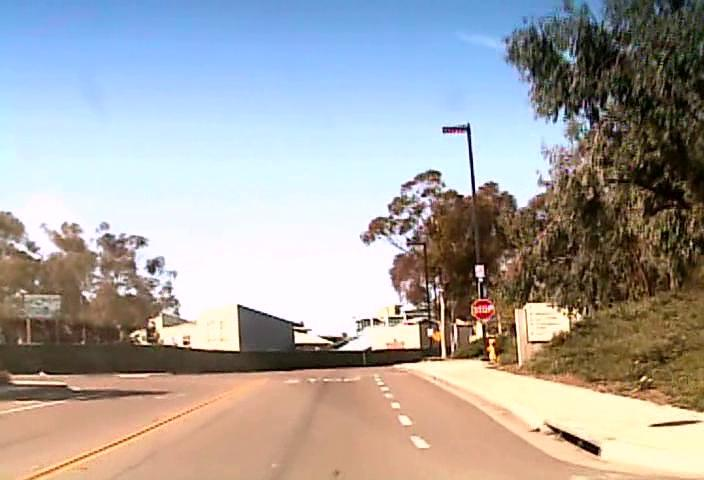stop: (471, 298, 494, 320)
